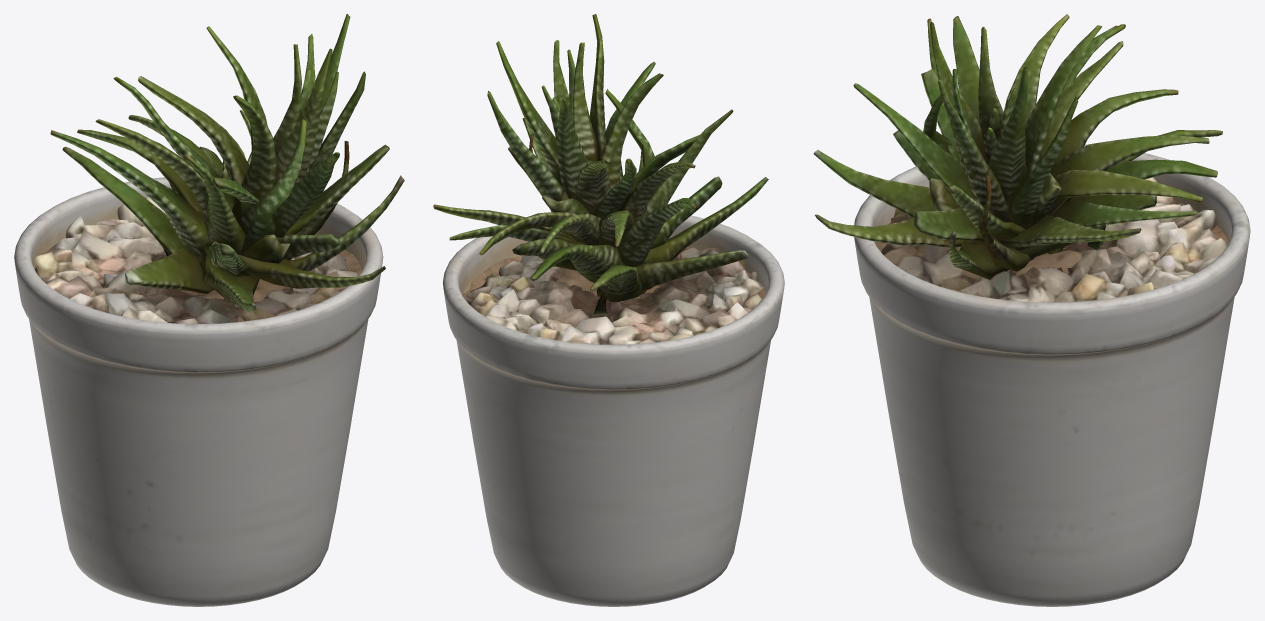
File: potted_plant_04.gltf
The picture shows the model from 3 angles, left to right: view 1: azimuth 30°, elevation 25°; view 2: azimuth 150°, elevation 25°; view 3: azimuth 270°, elevation 25°; orthographic projection. The views are drawn at different scales.
Visible parts, largest first — view 1: potted_plant_04_pot, potted_plant_04_plant, potted_plant_04_ground, potted_plant_04_dirt; view 2: potted_plant_04_pot, potted_plant_04_plant, potted_plant_04_ground, potted_plant_04_dirt; view 3: potted_plant_04_pot, potted_plant_04_plant, potted_plant_04_ground, potted_plant_04_dirt.
Boxes of the visible parts, <box> form: potted_plant_04_pot: <box>14,177,383,606</box>; potted_plant_04_plant: <box>50,14,404,311</box>; potted_plant_04_ground: <box>34,196,357,323</box>; potted_plant_04_dirt: <box>34,238,362,307</box>; potted_plant_04_pot: <box>443,215,784,606</box>; potted_plant_04_plant: <box>433,14,768,314</box>; potted_plant_04_ground: <box>463,247,765,344</box>; potted_plant_04_dirt: <box>462,247,765,306</box>; potted_plant_04_pot: <box>854,144,1250,606</box>; potted_plant_04_plant: <box>813,14,1222,279</box>; potted_plant_04_ground: <box>881,177,1227,302</box>; potted_plant_04_dirt: <box>875,200,1228,297</box>.
Size of the model in its own units: 0.1679 by 0.2675 by 0.1848.
Materials: 1 (1 with a texture image).
